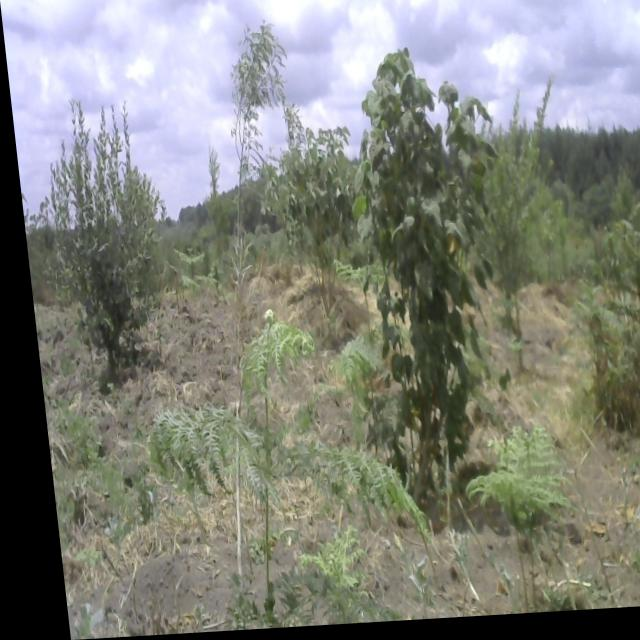Salix alba: (26, 68, 180, 411), (274, 70, 366, 316)
other: (339, 43, 517, 498)
